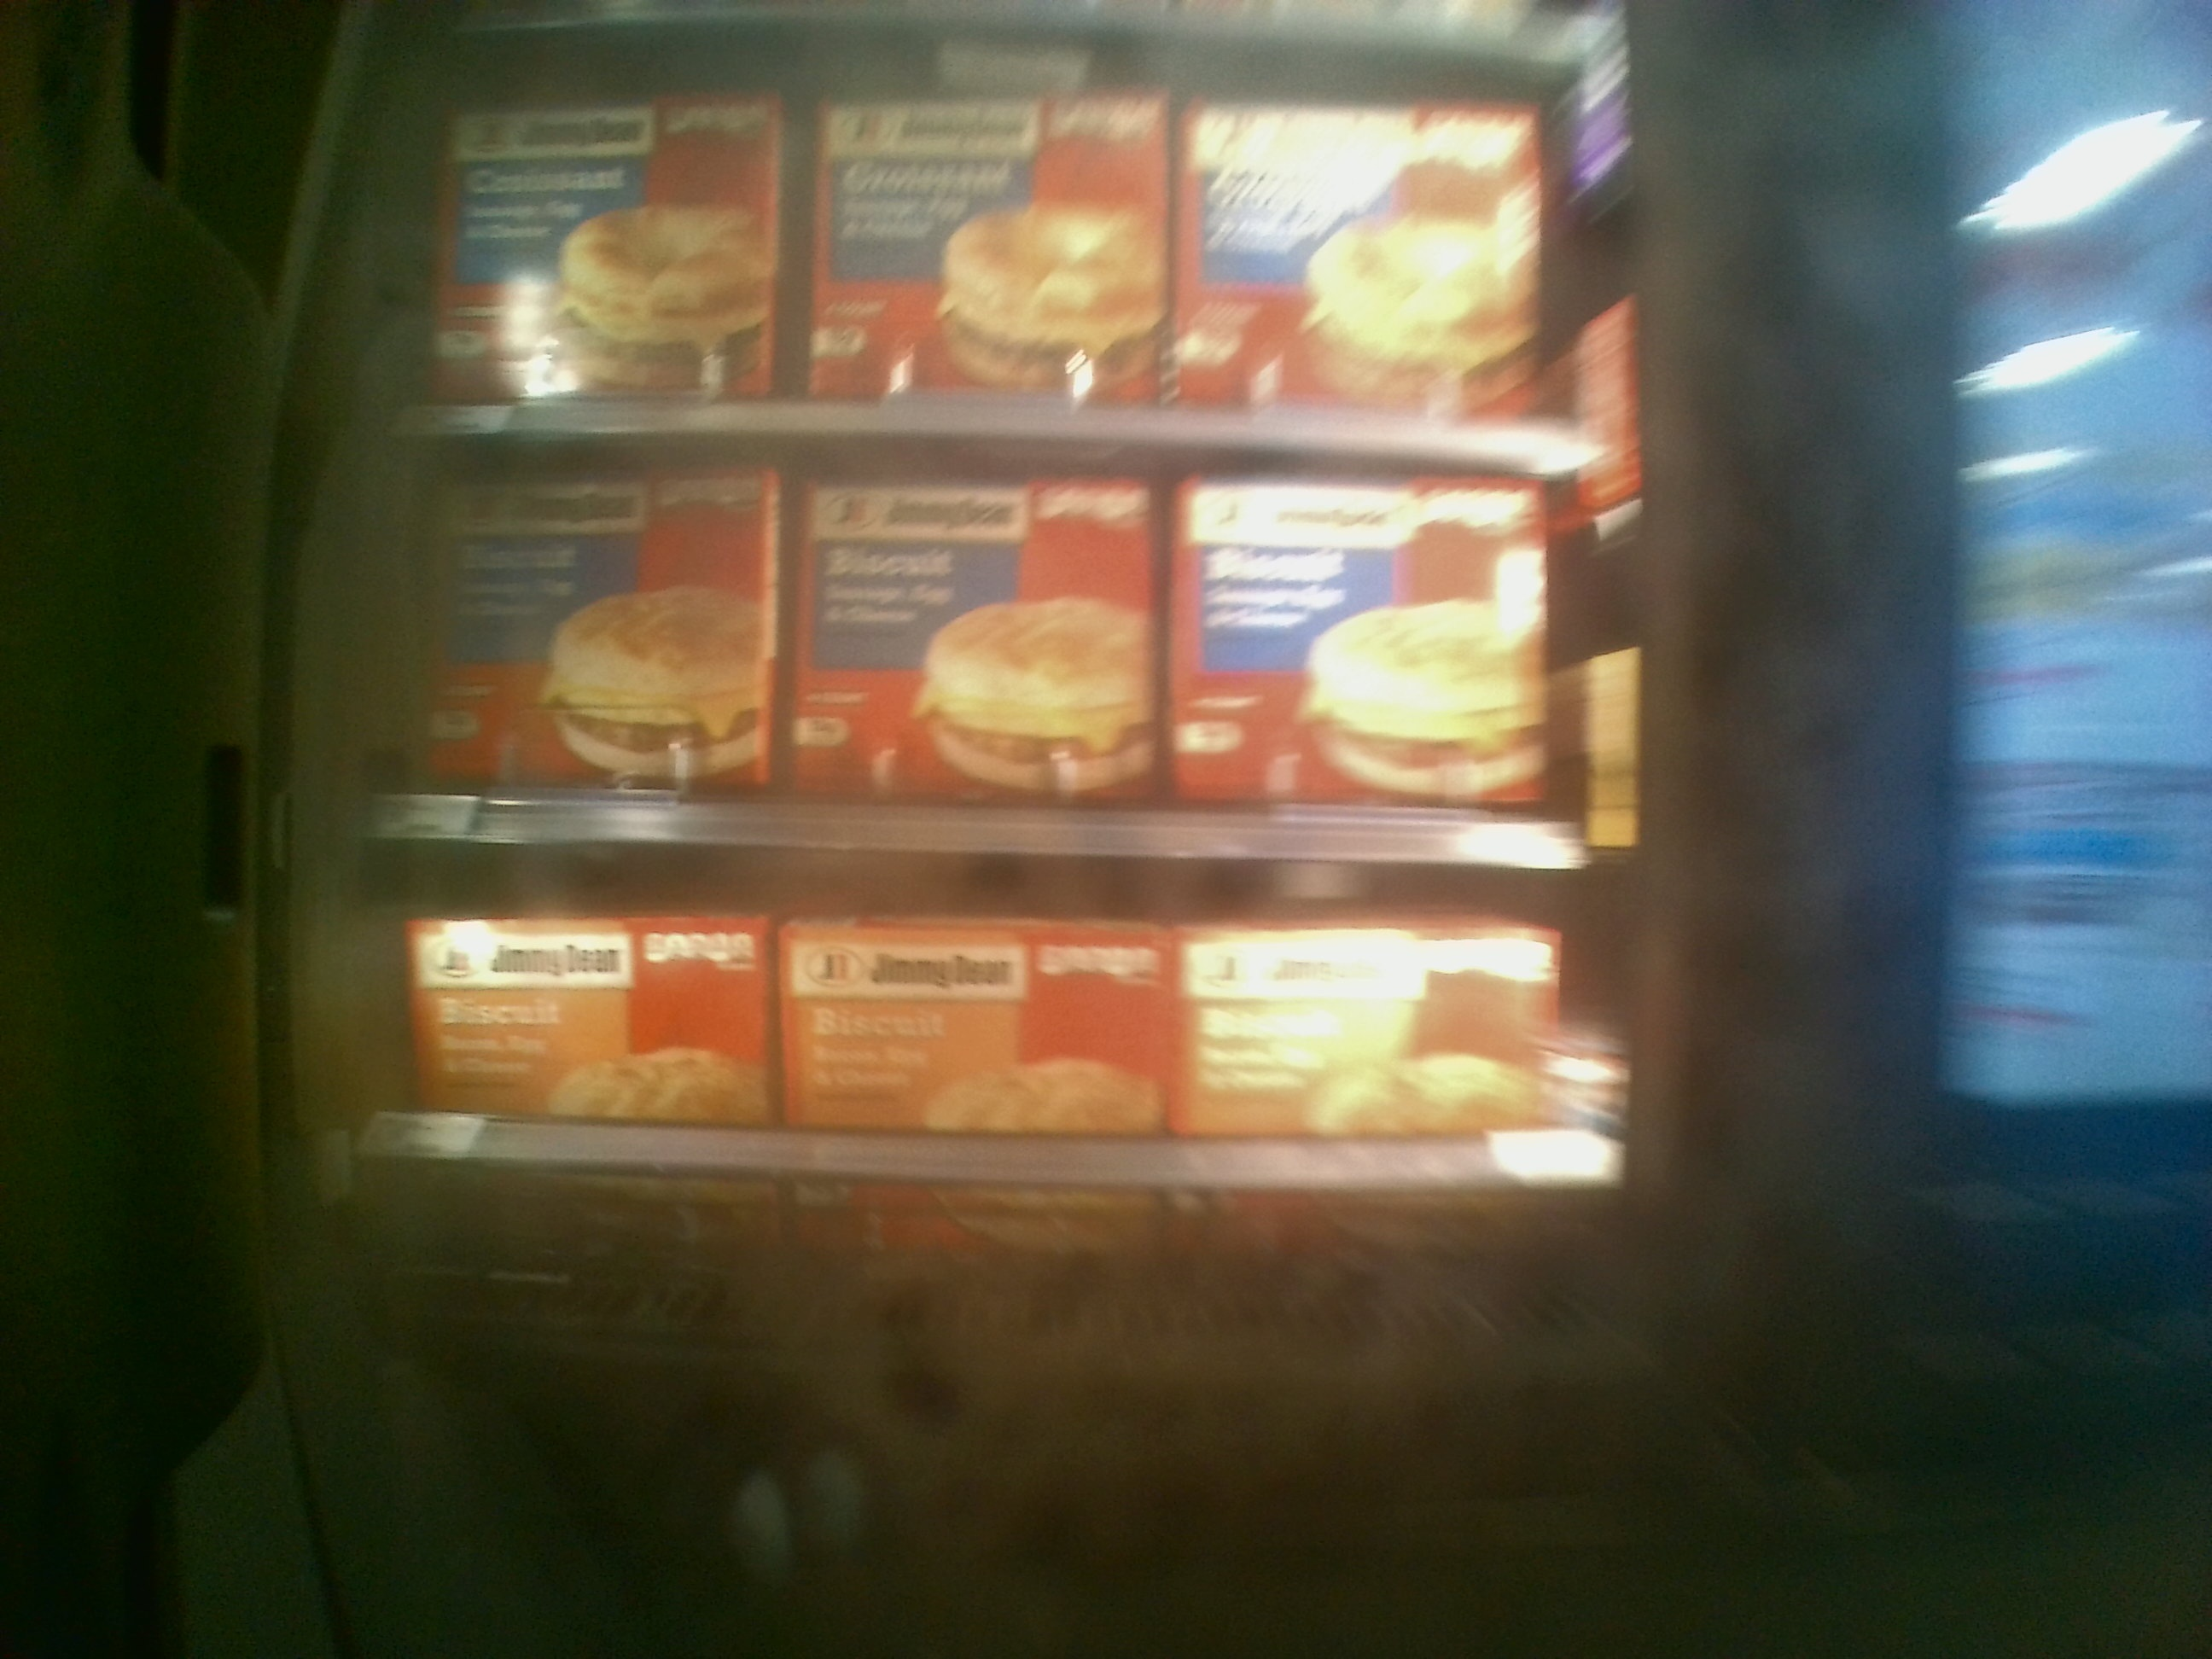shelf: (329, 838, 1646, 1284), (348, 416, 1615, 868)
